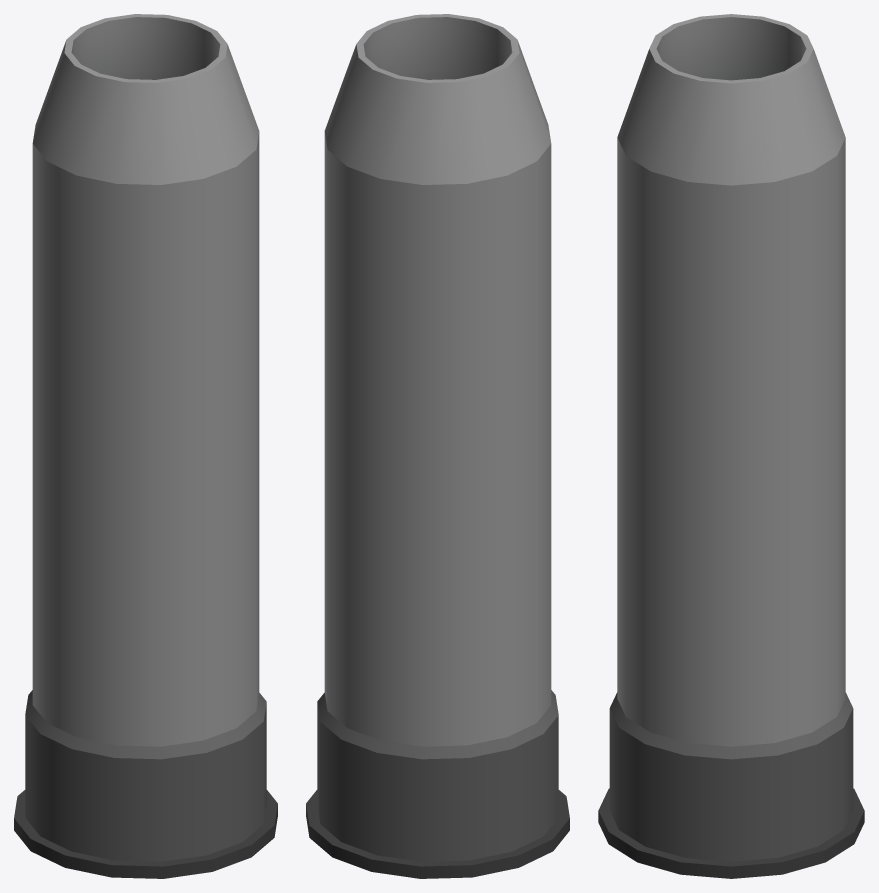
The model's file is Abrams_shell.obj.
3 views of the same model, side by side, from view 1: azimuth 30°, elevation 25°; view 2: azimuth 150°, elevation 25°; view 3: azimuth 270°, elevation 25° (orthographic).
Parts seen in each view (by area): view 1: Cylinder; view 2: Cylinder; view 3: Cylinder.
Part boxes in pixels (x1,y1,x2,y2): Cylinder: (14,14,277,878); Cylinder: (306,14,569,878); Cylinder: (598,14,864,878).
Size of the model in its own units: 0.8623 by 2.77 by 0.8623.
